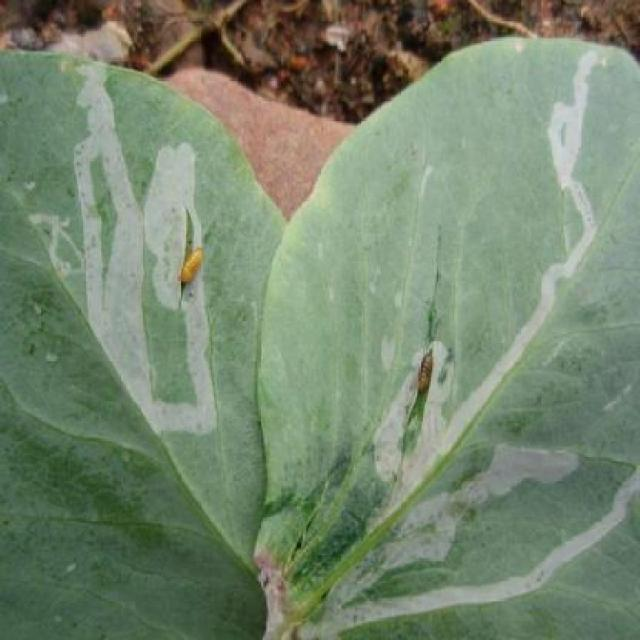whorl-maggot: (174, 241, 208, 299), (413, 342, 438, 401)
